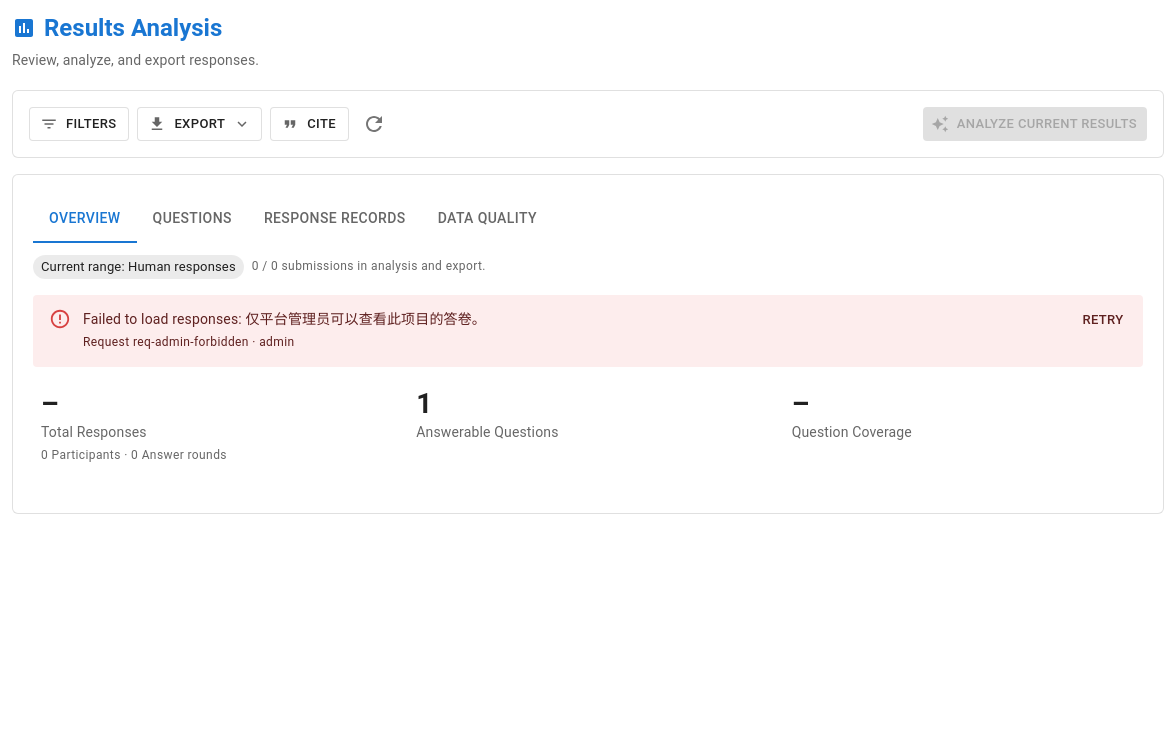
Scenario: admin permission errors are shown instead of falling back to local responses
Expected: the text "仅平台管理员可以查看此项目的答卷" is shown, x1=83 y1=311 x2=486 y2=327
Expected: the text "Request req-admin-forbidden · admin" is shown, x1=83 y1=335 x2=294 y2=349
Click the button "Retry" at coordinates (1103, 320), box x1=1071 y1=305 x2=1135 y2=336
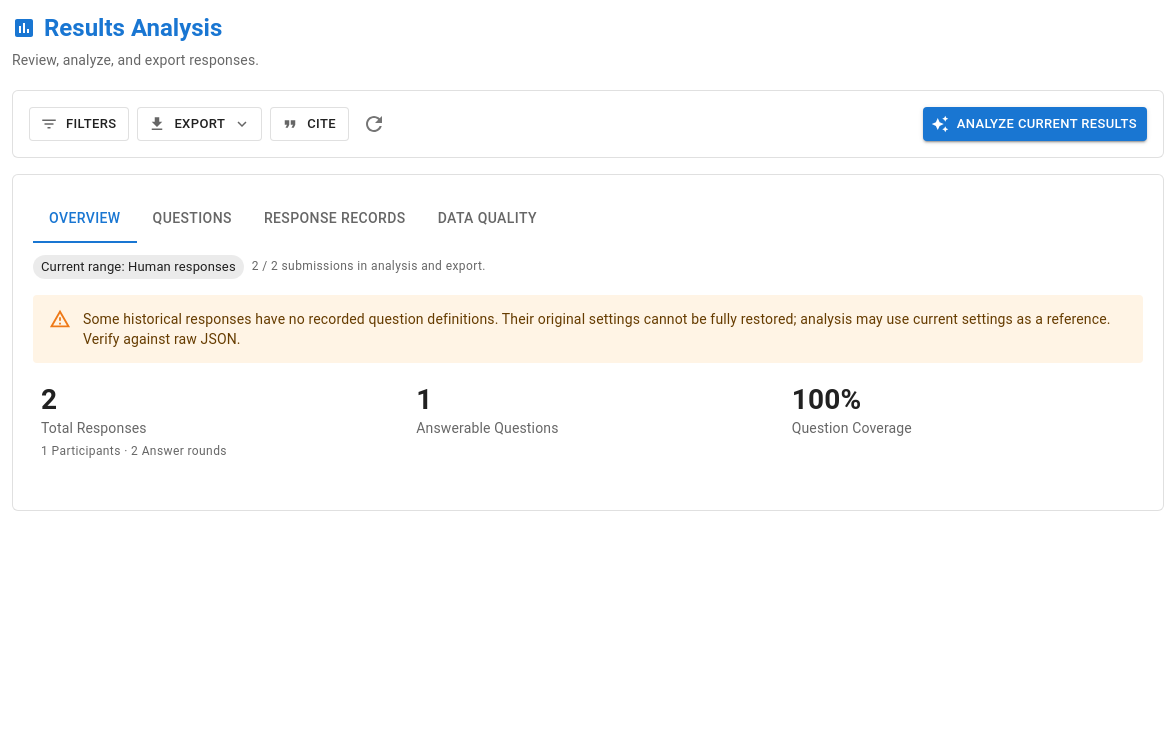
Now the text "2 / 2 submissions in analysis and export." is shown, box x1=252 y1=257 x2=486 y2=277
